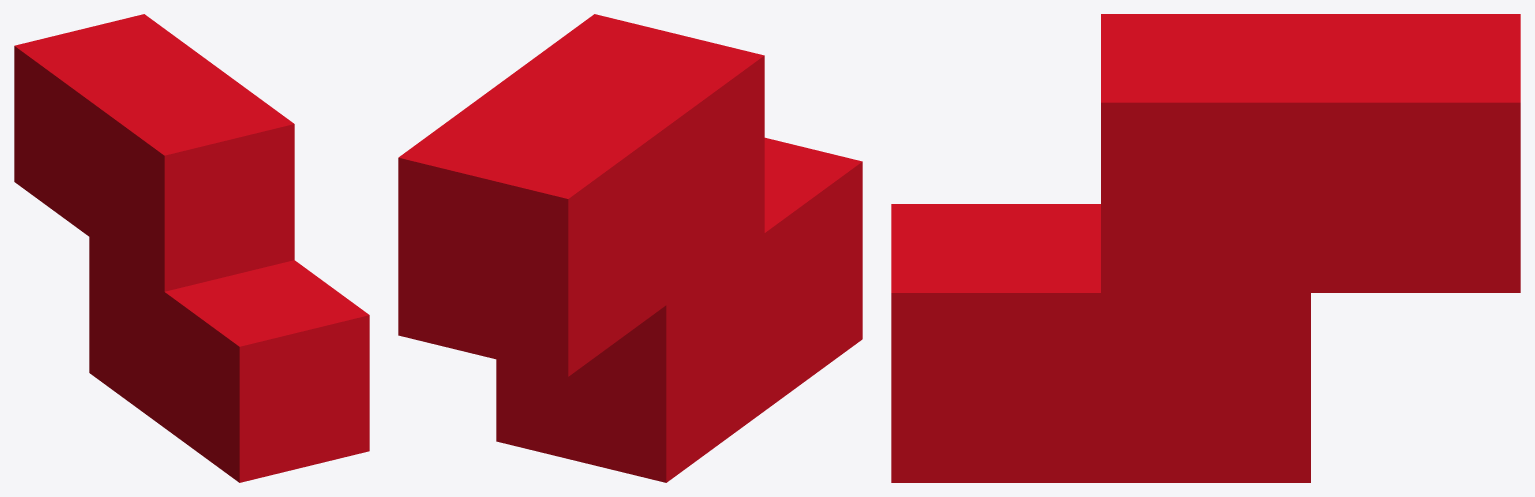
The model's file is Bendy.fbx.
The picture shows the model from 3 angles, left to right: view 1: azimuth 30°, elevation 25°; view 2: azimuth 150°, elevation 25°; view 3: azimuth 270°, elevation 25°; orthographic projection. The views are drawn at different scales.
Visible parts, largest first — view 1: Bendy; view 2: Bendy; view 3: Bendy.
Part boxes in pixels (box(x1,y1,x2,y2)): Bendy: box(14, 14, 369, 482); Bendy: box(398, 14, 862, 482); Bendy: box(891, 14, 1520, 482).
Size of the model in its own units: 200 by 400 by 600.
